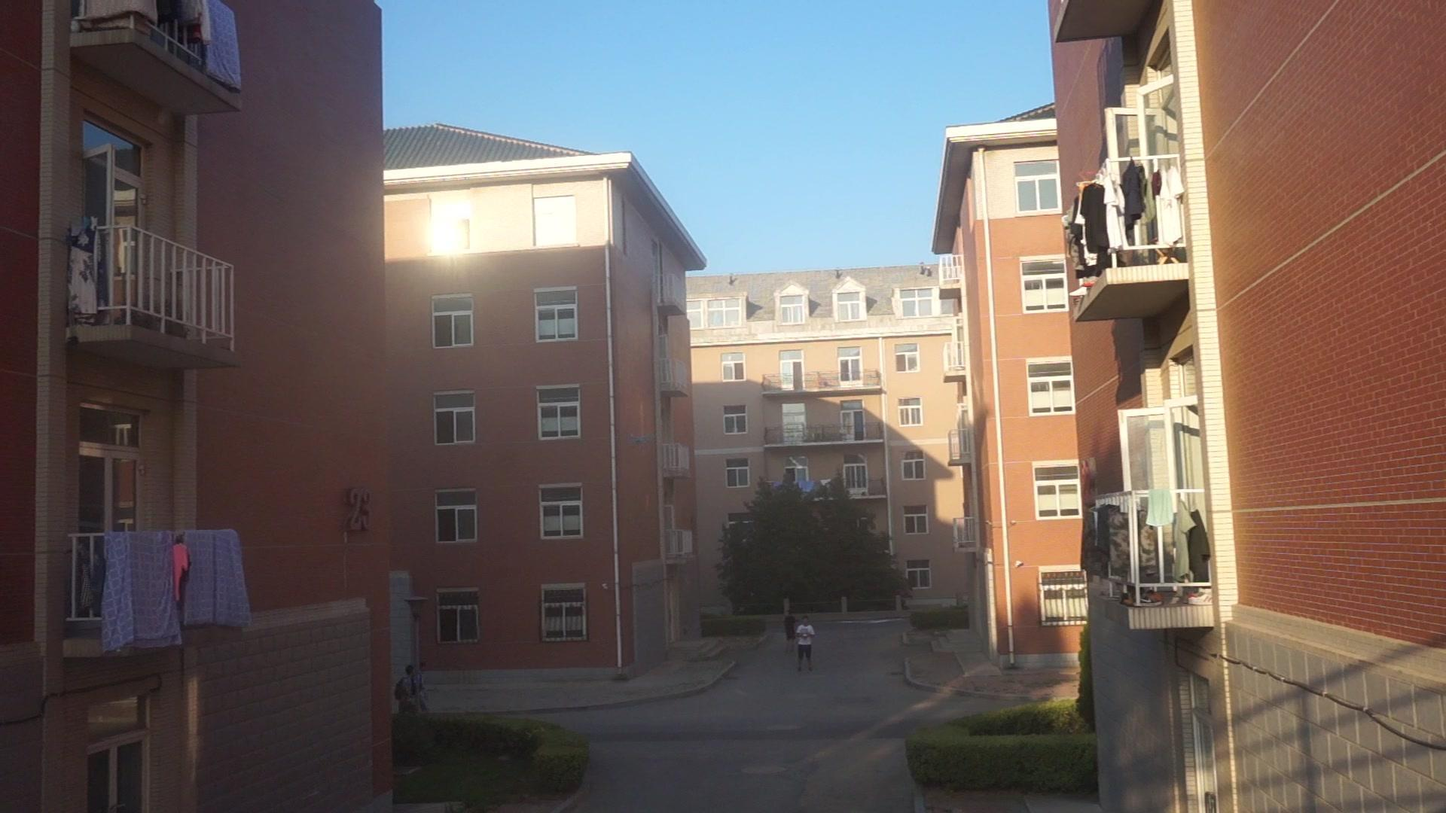UAV: (628, 434, 654, 446)
